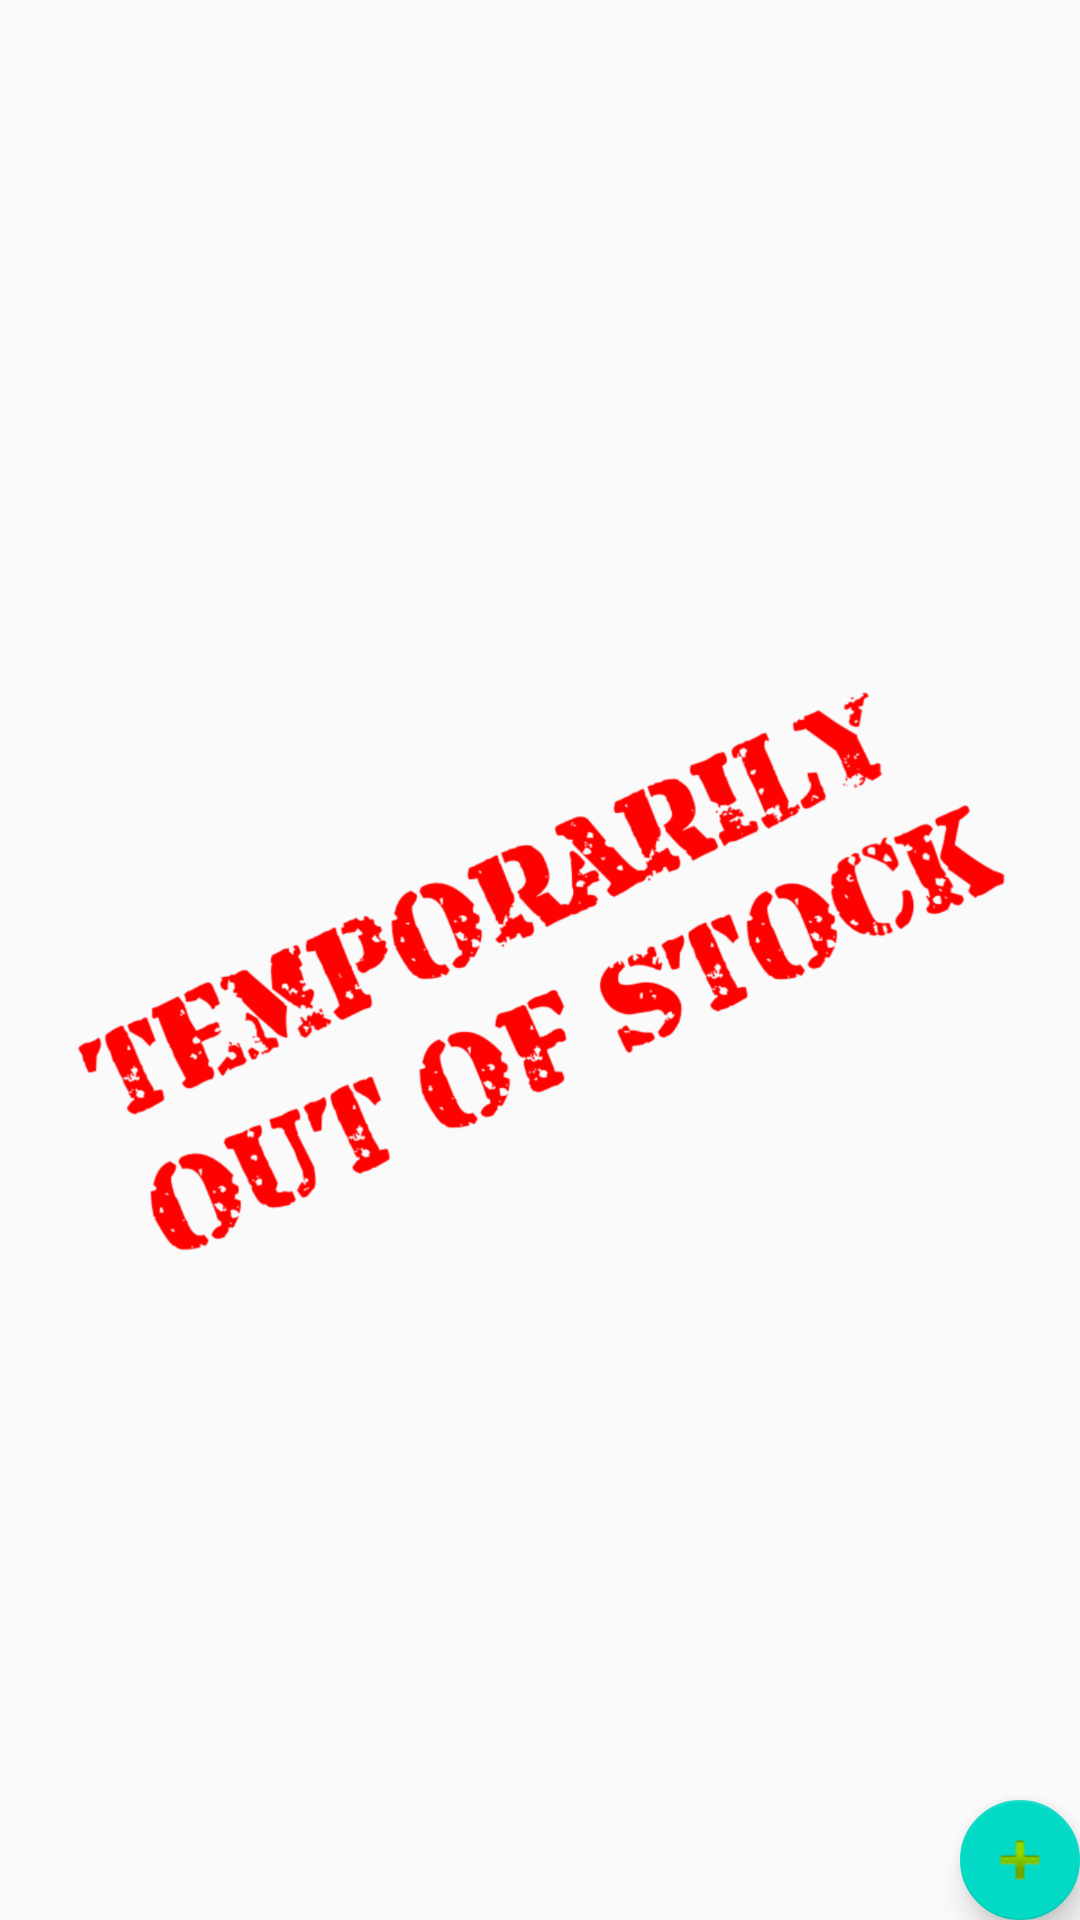

Screen size 1080*1920. Icon name, then its center in pixels as (x=x, y=y):
add: (x=1020, y=1860)
